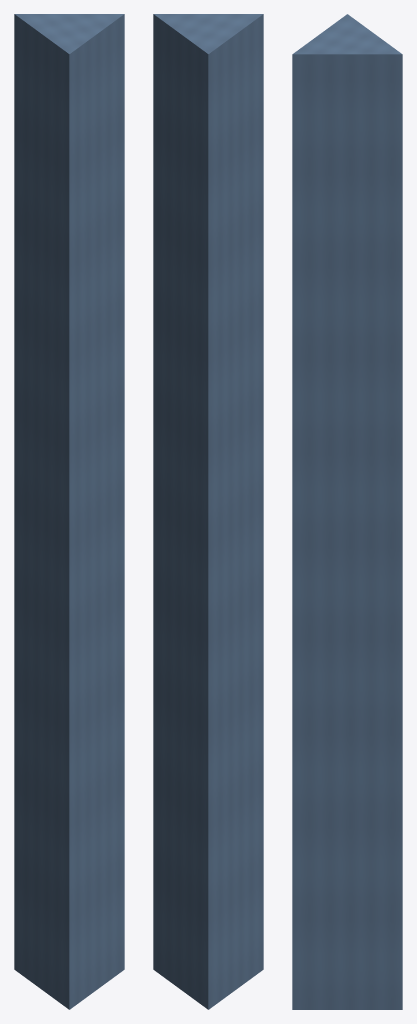
Rendered from atlas100-s058-a05.lod2.glb.
3 renders of one model, left to right at view 1: azimuth 30°, elevation 25°; view 2: azimuth 150°, elevation 25°; view 3: azimuth 330°, elevation 25°, orthographic.
Parts seen in each view (by area): view 1: atlas100-s058-a05:part-000; view 2: atlas100-s058-a05:part-000; view 3: atlas100-s058-a05:part-000.
Boxes of the visible parts, x1=… form: atlas100-s058-a05:part-000: x1=14, y1=14, x2=124, y2=1009; atlas100-s058-a05:part-000: x1=153, y1=14, x2=263, y2=1009; atlas100-s058-a05:part-000: x1=292, y1=14, x2=402, y2=1009.
Bounding box in the file's own units: 0.0573 × 0.6334 × 0.0662.
1 material, 1 textured.
